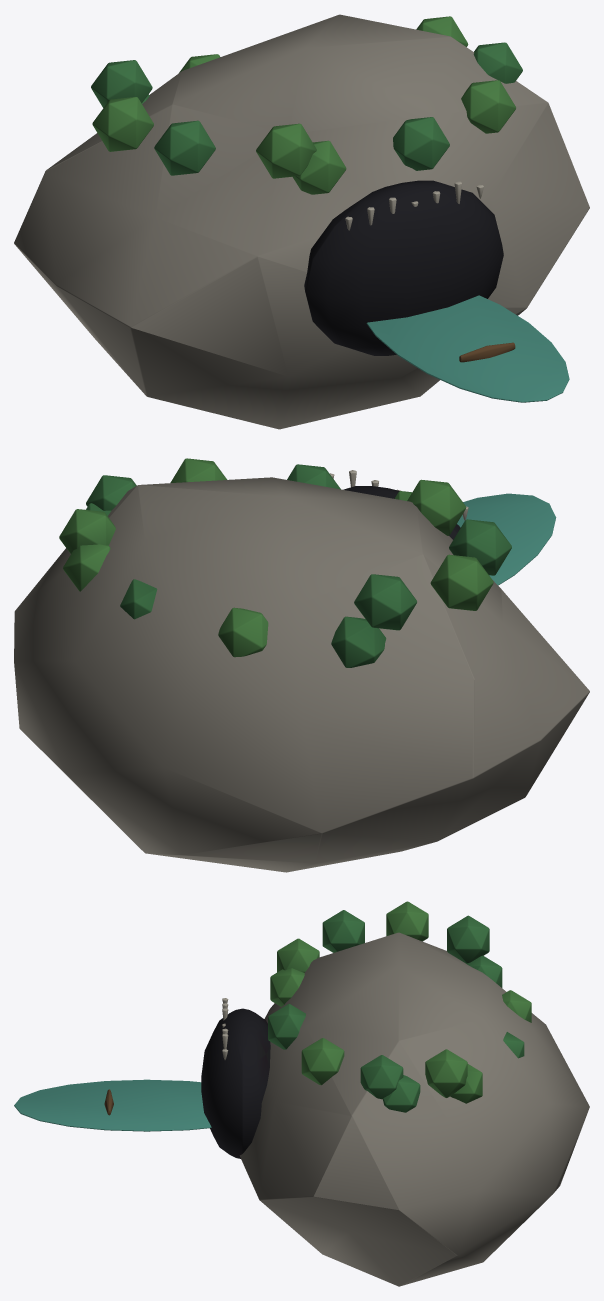
Rendered from lm-cave.glb.
3 renders of one model, top to bottom at view 1: azimuth 30°, elevation 25°; view 2: azimuth 150°, elevation 25°; view 3: azimuth 270°, elevation 25°, orthographic. The views are drawn at different scales.
Size of the model in its own units: 18.82 by 12.84 by 22.86.
